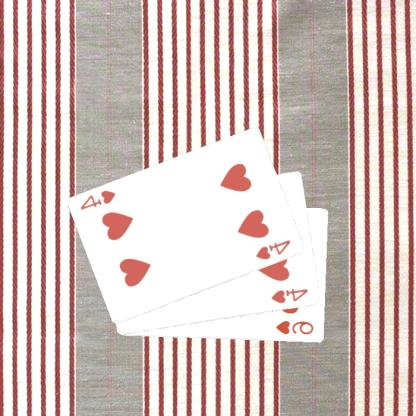4H: (80, 187, 120, 212), (255, 237, 294, 262), (270, 286, 312, 305)
9H: (275, 318, 318, 336)
